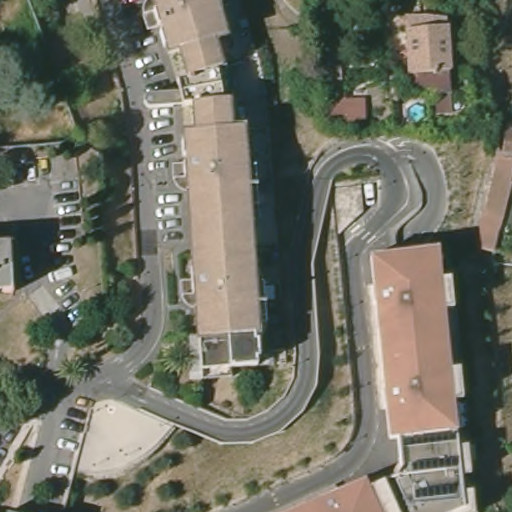pool: (406, 102, 428, 125)
